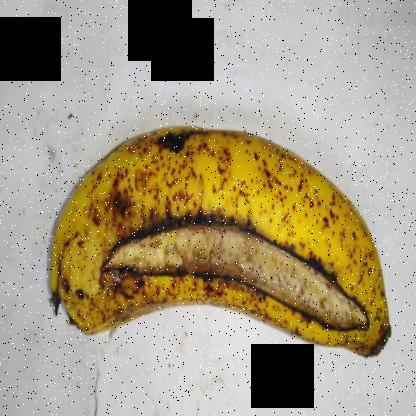ripe: (51, 104, 406, 377)
rotten: (115, 195, 383, 353)
